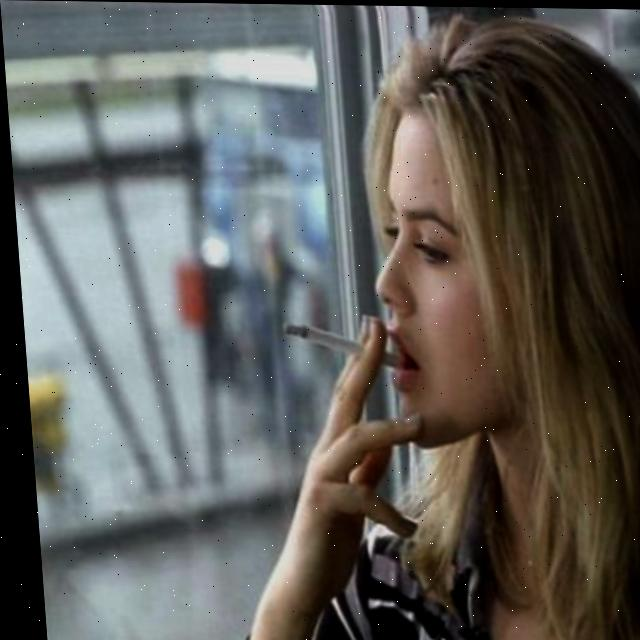cigarette: (274, 317, 395, 368)
